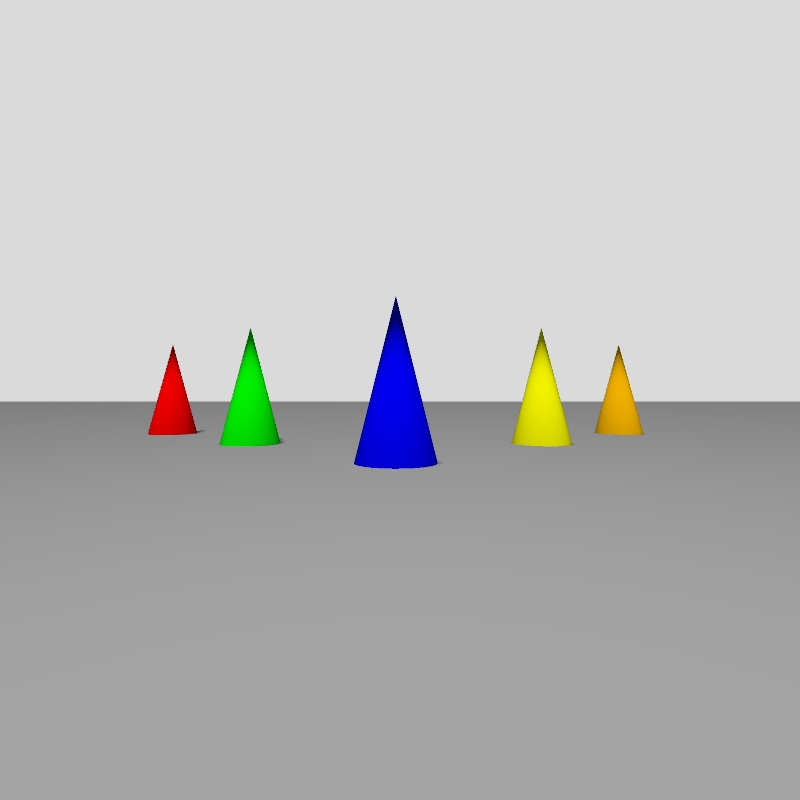Blue_cone: (354, 299, 437, 468)
Green_cone: (220, 330, 279, 446)
Orange_cone: (596, 347, 643, 435)
Red_cone: (149, 347, 197, 434)
Yellow_cone: (513, 331, 571, 446)
